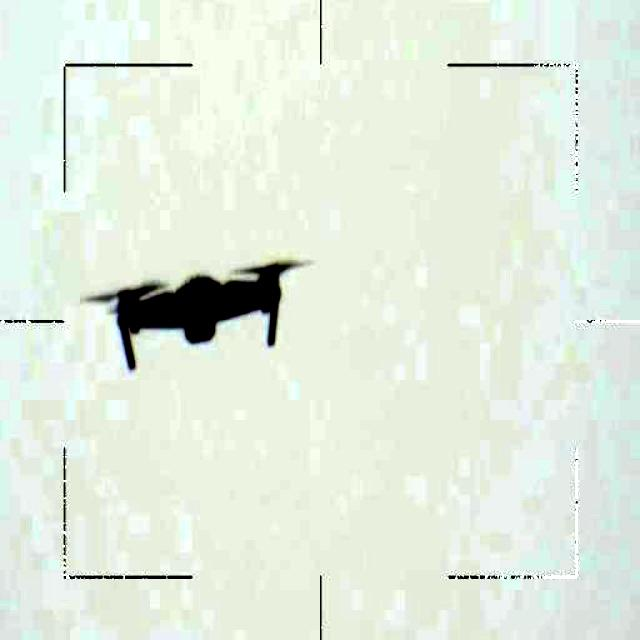bird: (75, 245, 326, 372)
